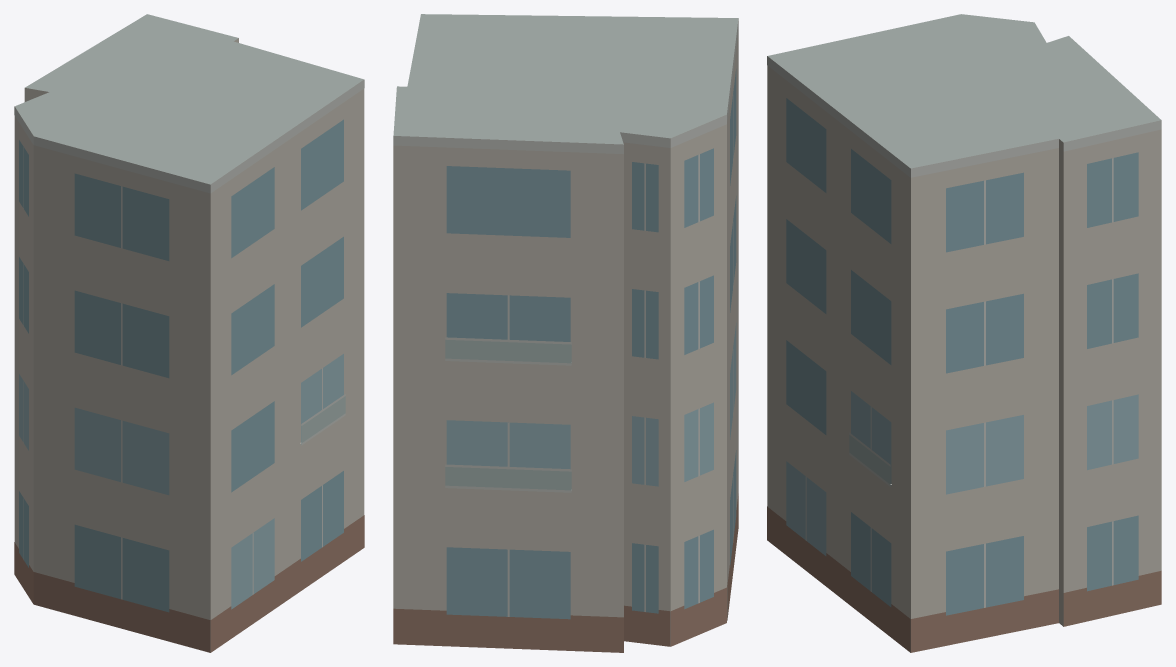
The model's file is survey-upis-32646564.glb.
The picture shows the model from 3 angles, left to right: view 1: azimuth 30°, elevation 25°; view 2: azimuth 150°, elevation 25°; view 3: azimuth 270°, elevation 25°; orthographic projection. The views are drawn at different scales.
Visible parts, largest first — view 1: survey-upis-32646564.tmp; view 2: survey-upis-32646564.tmp; view 3: survey-upis-32646564.tmp.
Boxes of the visible parts, <box> form: survey-upis-32646564.tmp: <box>14,14,364,652</box>; survey-upis-32646564.tmp: <box>393,14,738,652</box>; survey-upis-32646564.tmp: <box>767,14,1161,652</box>.
Bounding box in the file's own units: 8.77 × 12.8 × 9.46.
